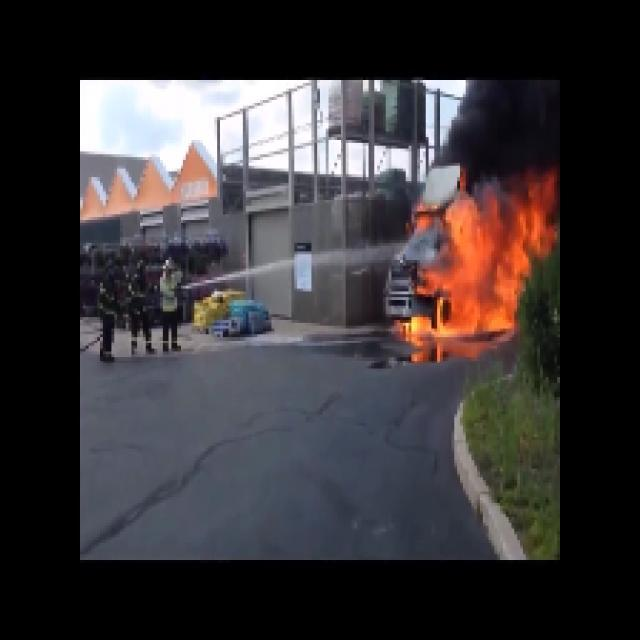Fire: (418, 212, 555, 340)
